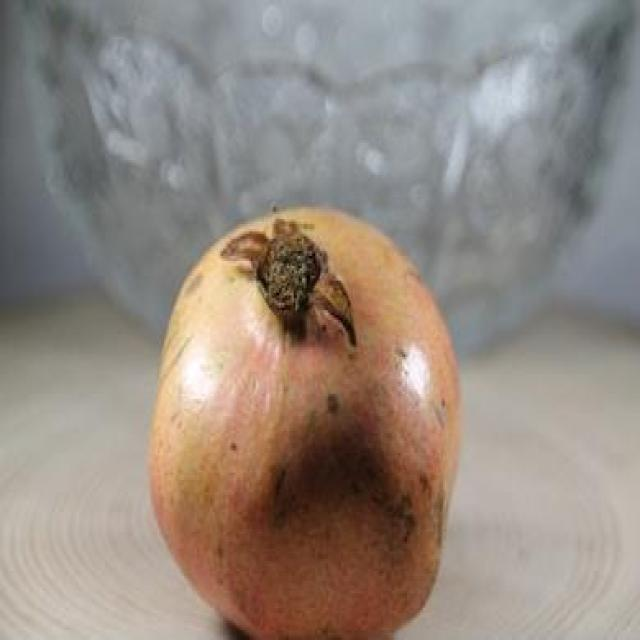overripe: (146, 193, 464, 640)
